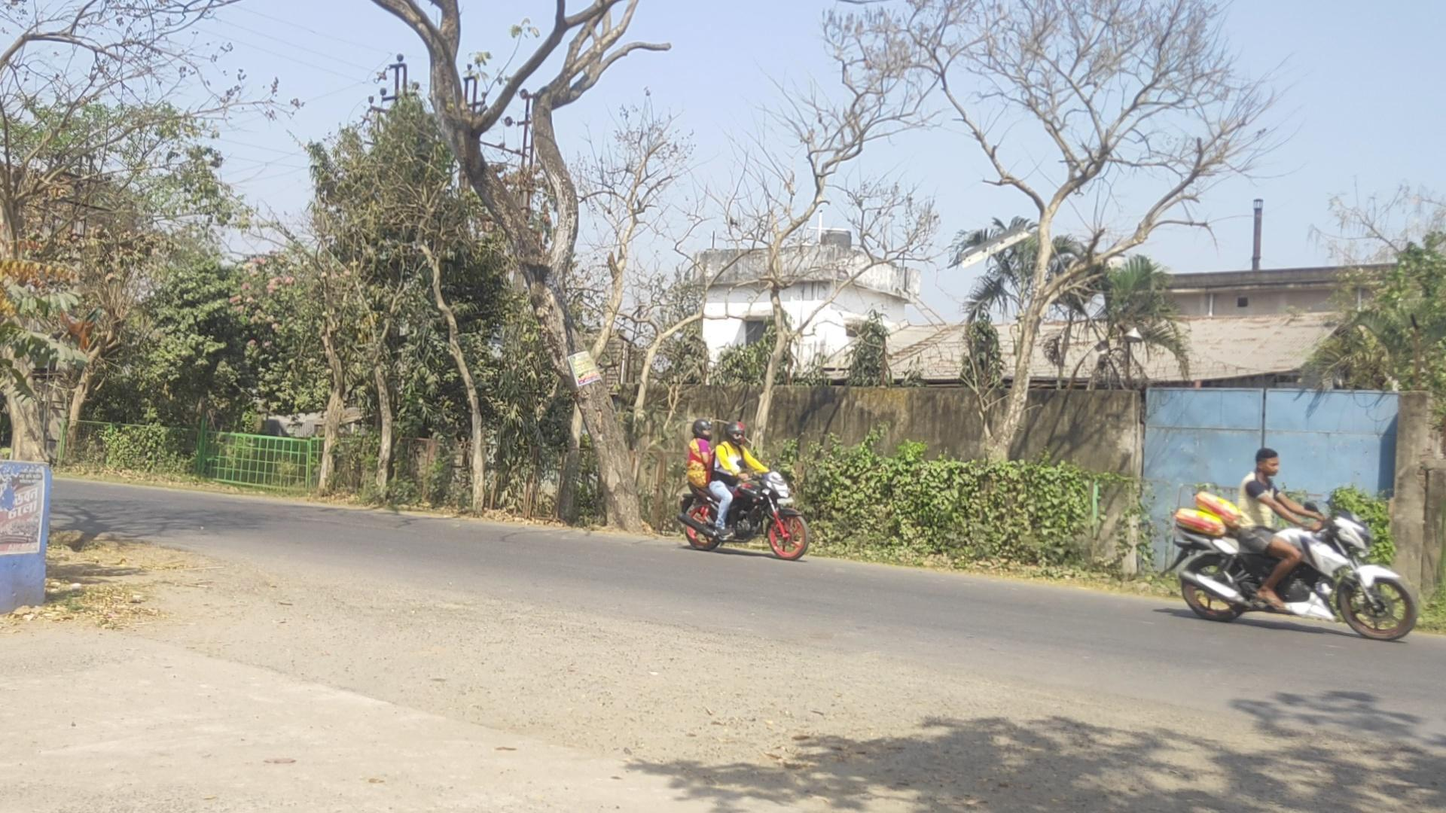bike: (1161, 448, 1418, 641), (677, 420, 810, 562)
